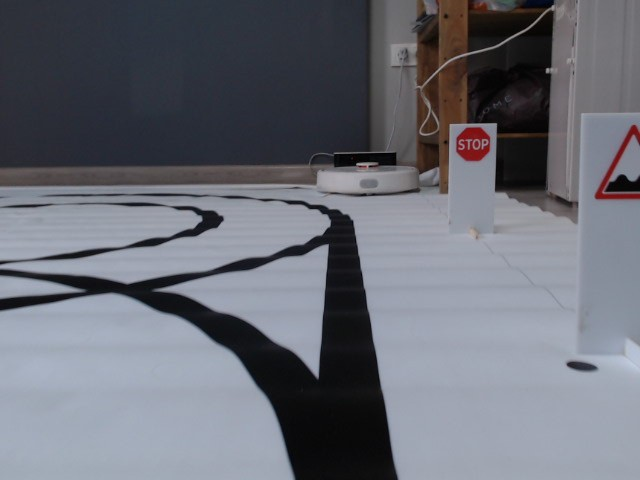Stop: (455, 126, 491, 163)
